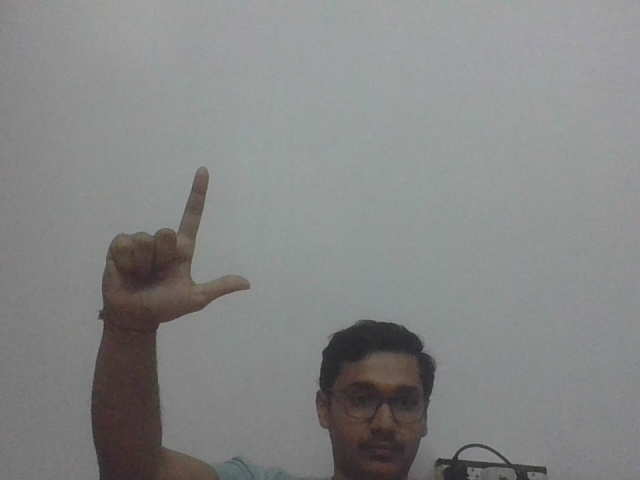L: (98, 161, 258, 322)
